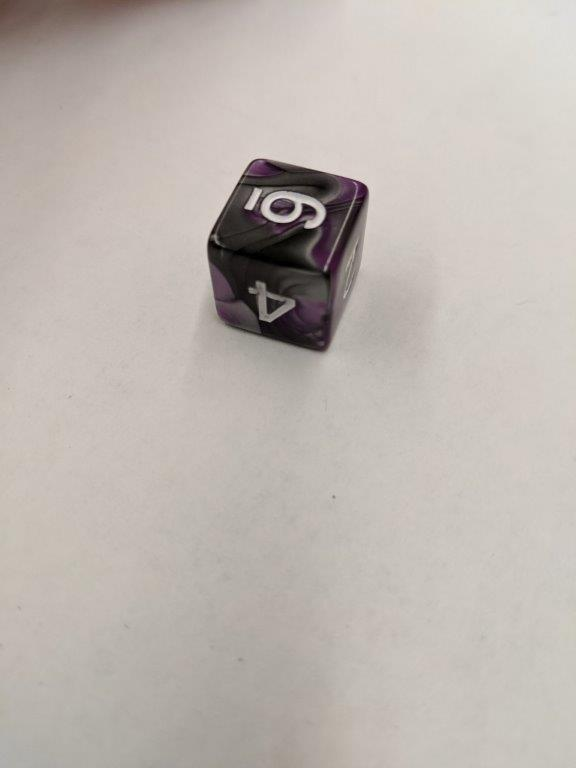d6-6: (206, 161, 368, 349)
